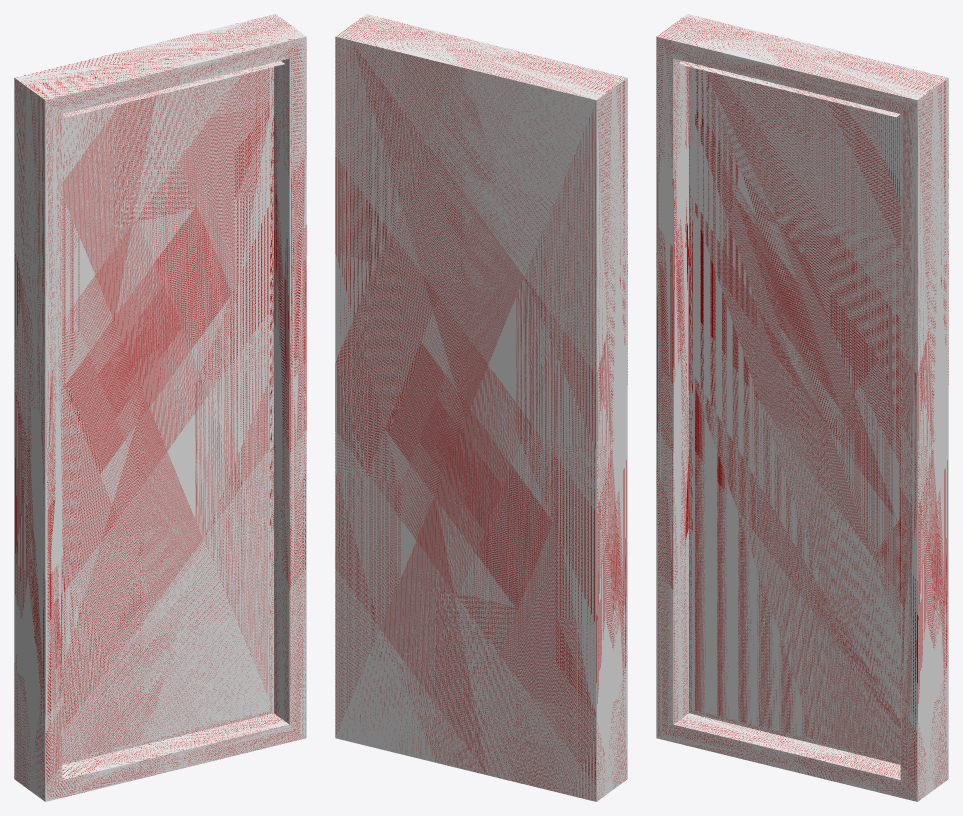
Rendered from original-10.obj.
3 views of the same model, side by side, from view 1: azimuth 30°, elevation 25°; view 2: azimuth 150°, elevation 25°; view 3: azimuth 330°, elevation 25° (orthographic).
Parts seen in each view (by area): view 1: mesh10/mesh10-geometry/material_0/component_0#mesh10-geometry; view 2: mesh10/mesh10-geometry/material_0/component_0#mesh10-geometry; view 3: mesh10/mesh10-geometry/material_0/component_0#mesh10-geometry.
Part boxes in pixels (<box>): mesh10/mesh10-geometry/material_0/component_0#mesh10-geometry: <box>14,14,306,801</box>; mesh10/mesh10-geometry/material_0/component_0#mesh10-geometry: <box>335,14,627,801</box>; mesh10/mesh10-geometry/material_0/component_0#mesh10-geometry: <box>656,14,948,801</box>.
Size of the model in its own units: 0.1509 by 0.3874 by 0.031.
